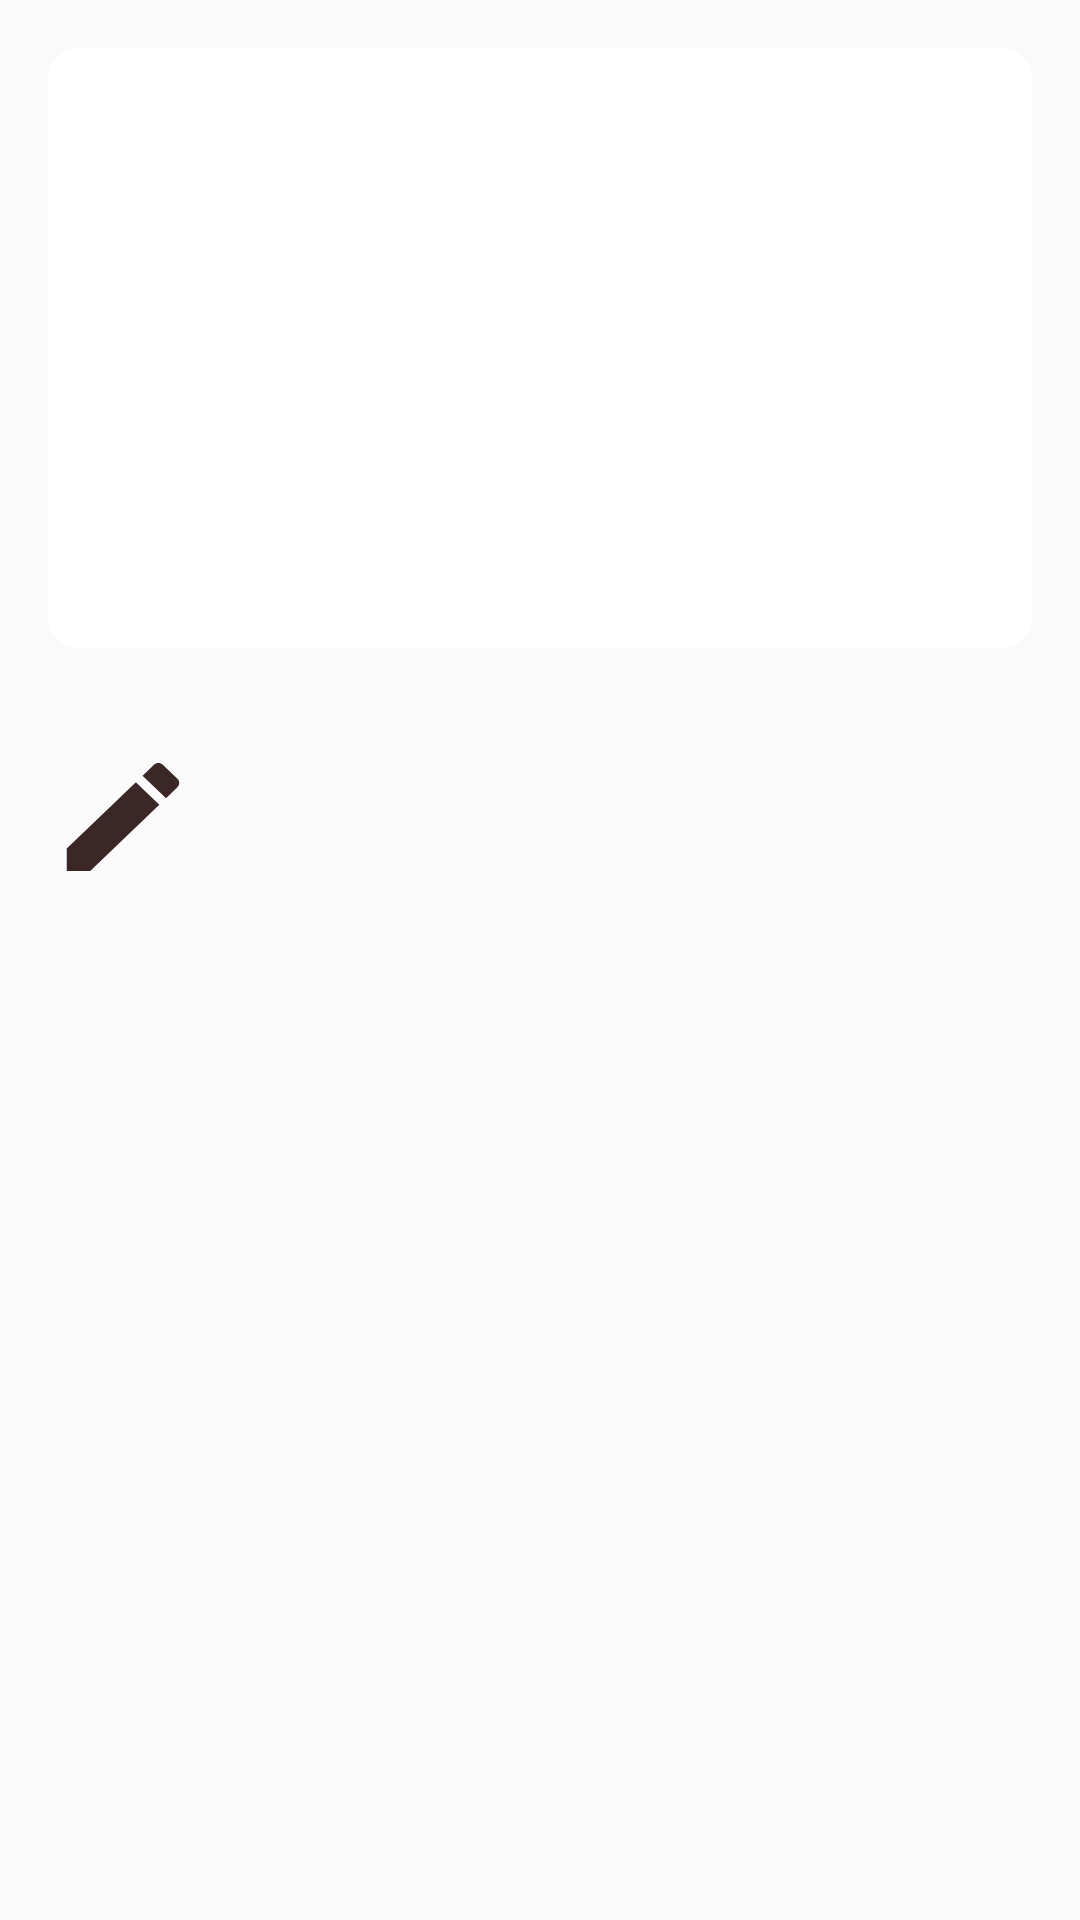

Named icons in this screenshot (1080 x 1920) and their bounding boxes, [x1,y1,x2,y2]:
edit: [66,763,180,871]
